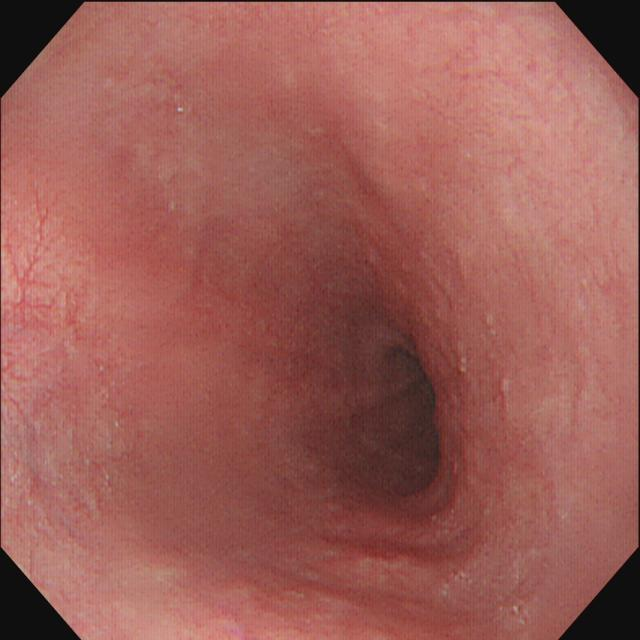E: (345, 342, 448, 499)
